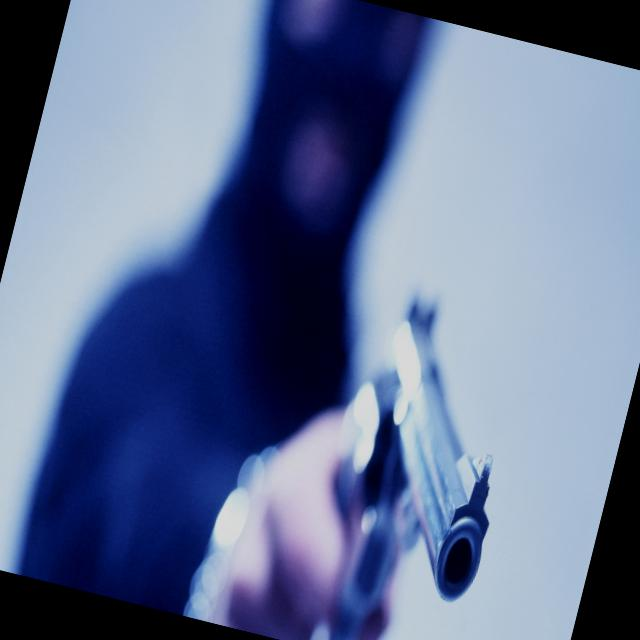handgun: (290, 272, 546, 639)
